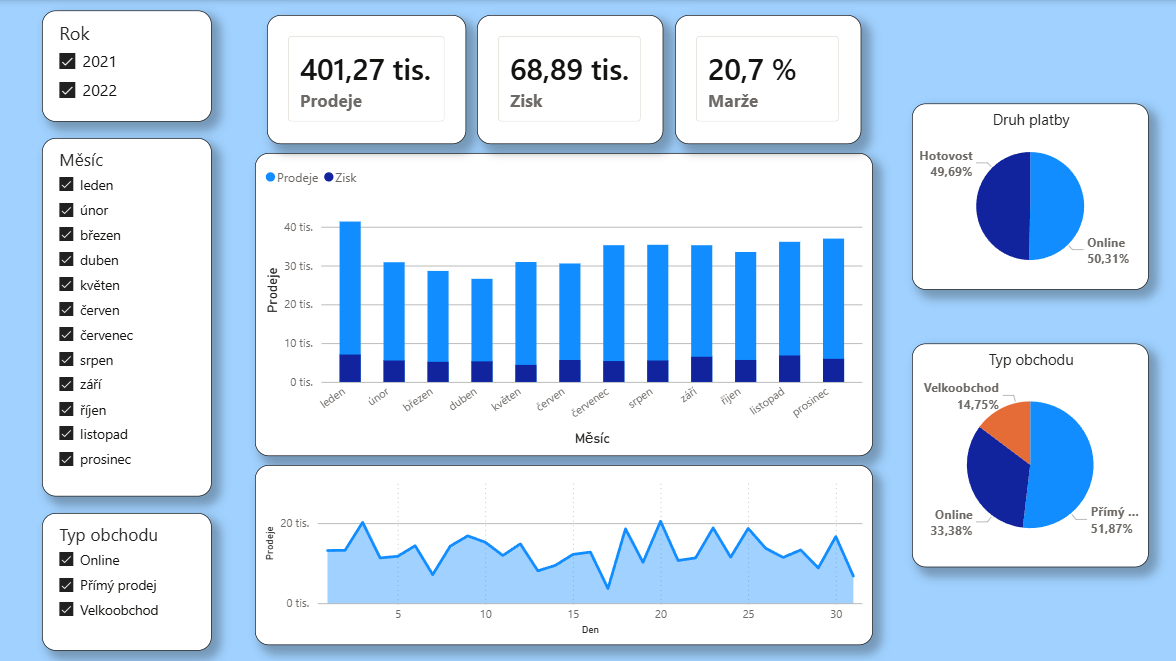

The dashboard page shown, as its layout file describes it:
{"tool":"powerbi","page":{"name":"Stránka 1","canvas":[1280,720],"ordinal":0},"visuals":[{"type":"cardVisual","fields":{"Data":["Sum(Input Data.Total Selling Value)"]},"box":[290.1,15.7,216.3,139.9],"z":0,"group":"g1"},{"type":"clusteredColumnChart","fields":{"Y":["Sum(Input Data.Total Selling Value)","Input Data.Zisk"],"Category":["Input Data.DATE.Variace.Hierarchie dat.Měsíc"]},"box":[277.1,165.4,670.1,328.6],"z":0},{"type":"cardVisual","fields":{"Data":["Input Data.Zisk"]},"box":[518.6,15.7,201.7,139.9],"z":1000,"group":"g1"},{"type":"pieChart","title":"Druh platby","fields":{"Y":["Sum(Input Data.Total Selling Value)"],"Category":["Input Data.PAYMENT MODE"]},"box":[988.9,112.2,257,201.7],"z":1000},{"type":"pieChart","title":"Typ obchodu","fields":{"Category":["Input Data.SALE TYPE"],"Y":["Sum(Input Data.Total Selling Value)"]},"box":[988.9,372.5,257,242.4],"z":2000},{"type":"slicer","fields":{"Values":["Input Data.Year"]},"box":[45.5,11.4,183.8,120.4],"z":3000,"group":"g2"},{"type":"areaChart","fields":{"Category":["Input Data.Day"],"Y":["Sum(Input Data.Total Selling Value)"]},"box":[277.1,503.7,670.1,195.2],"z":3000},{"type":"group","id":"g1","title":"Skupina 1","box":[290.1,15.7,644.1,139.9],"z":4000},{"type":"slicer","fields":{"Values":["Input Data.SALE TYPE"]},"box":[45.5,556.3,183.8,149.6],"z":5000,"group":"g2"},{"type":"cardVisual","fields":{"Data":["Input Data.Total %"]},"box":[732.5,15.7,201.7,139.9],"z":6000,"group":"g1"},{"type":"slicer","fields":{"Values":["Input Data.DATE.Variace.Hierarchie dat.Měsíc"]},"box":[45.5,149.7,183.8,388.7],"z":6000,"group":"g2"},{"type":"group","id":"g2","title":"Skupina 3","box":[45.5,11.4,183.8,694.5],"z":6001}]}

Visuals, with their boxes in screenshot pixels (x1, y1, x2, y2), scaled from the page's 1280x720 canvas onto the 1176x661 screenshot:
cardVisual - Sum(Input Data.Total Selling Value): 267/14/465/143
clusteredColumnChart - Sum(Input Data.Total Selling Value) x Input Data.Zisk: 255/152/870/454
cardVisual - Input Data.Zisk: 476/14/662/143
"Druh platby" pieChart: 909/103/1145/288
"Typ obchodu" pieChart: 909/342/1145/565
slicer - Input Data.Year: 42/10/211/121
areaChart - Input Data.Day x Sum(Input Data.Total Selling Value): 255/462/870/642
"Skupina 1" group: 267/14/858/143
slicer - Input Data.SALE TYPE: 42/511/211/648
cardVisual - Input Data.Total %: 673/14/858/143
slicer - Input Data.DATE.Variace.Hierarchie dat.Měsíc: 42/137/211/494
"Skupina 3" group: 42/10/211/648
